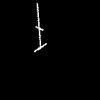double_crochet: (34, 4, 45, 51)
